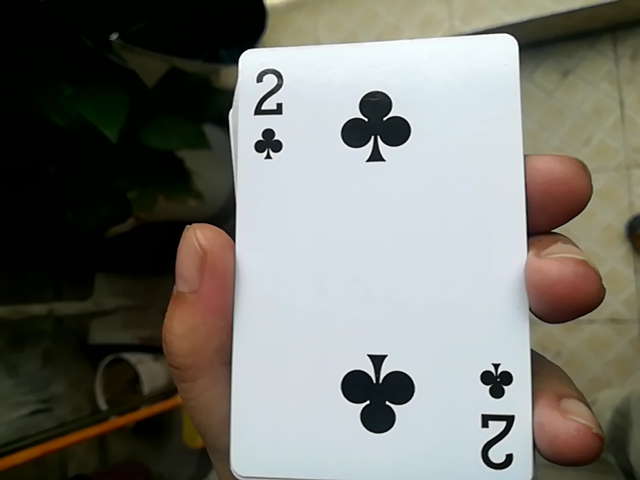mh 2: (216, 31, 532, 480)
